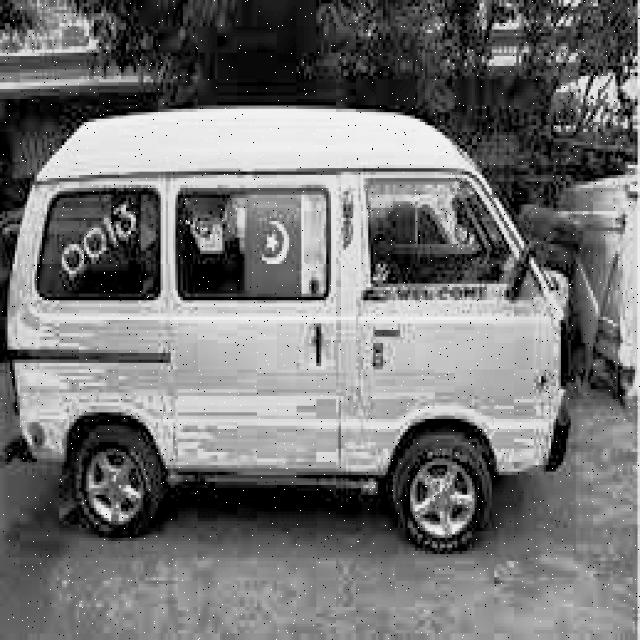LCV: (5, 109, 578, 561)
